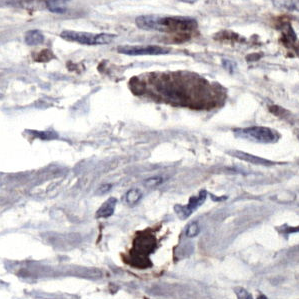Lymphocyte: (161, 14, 202, 41)
